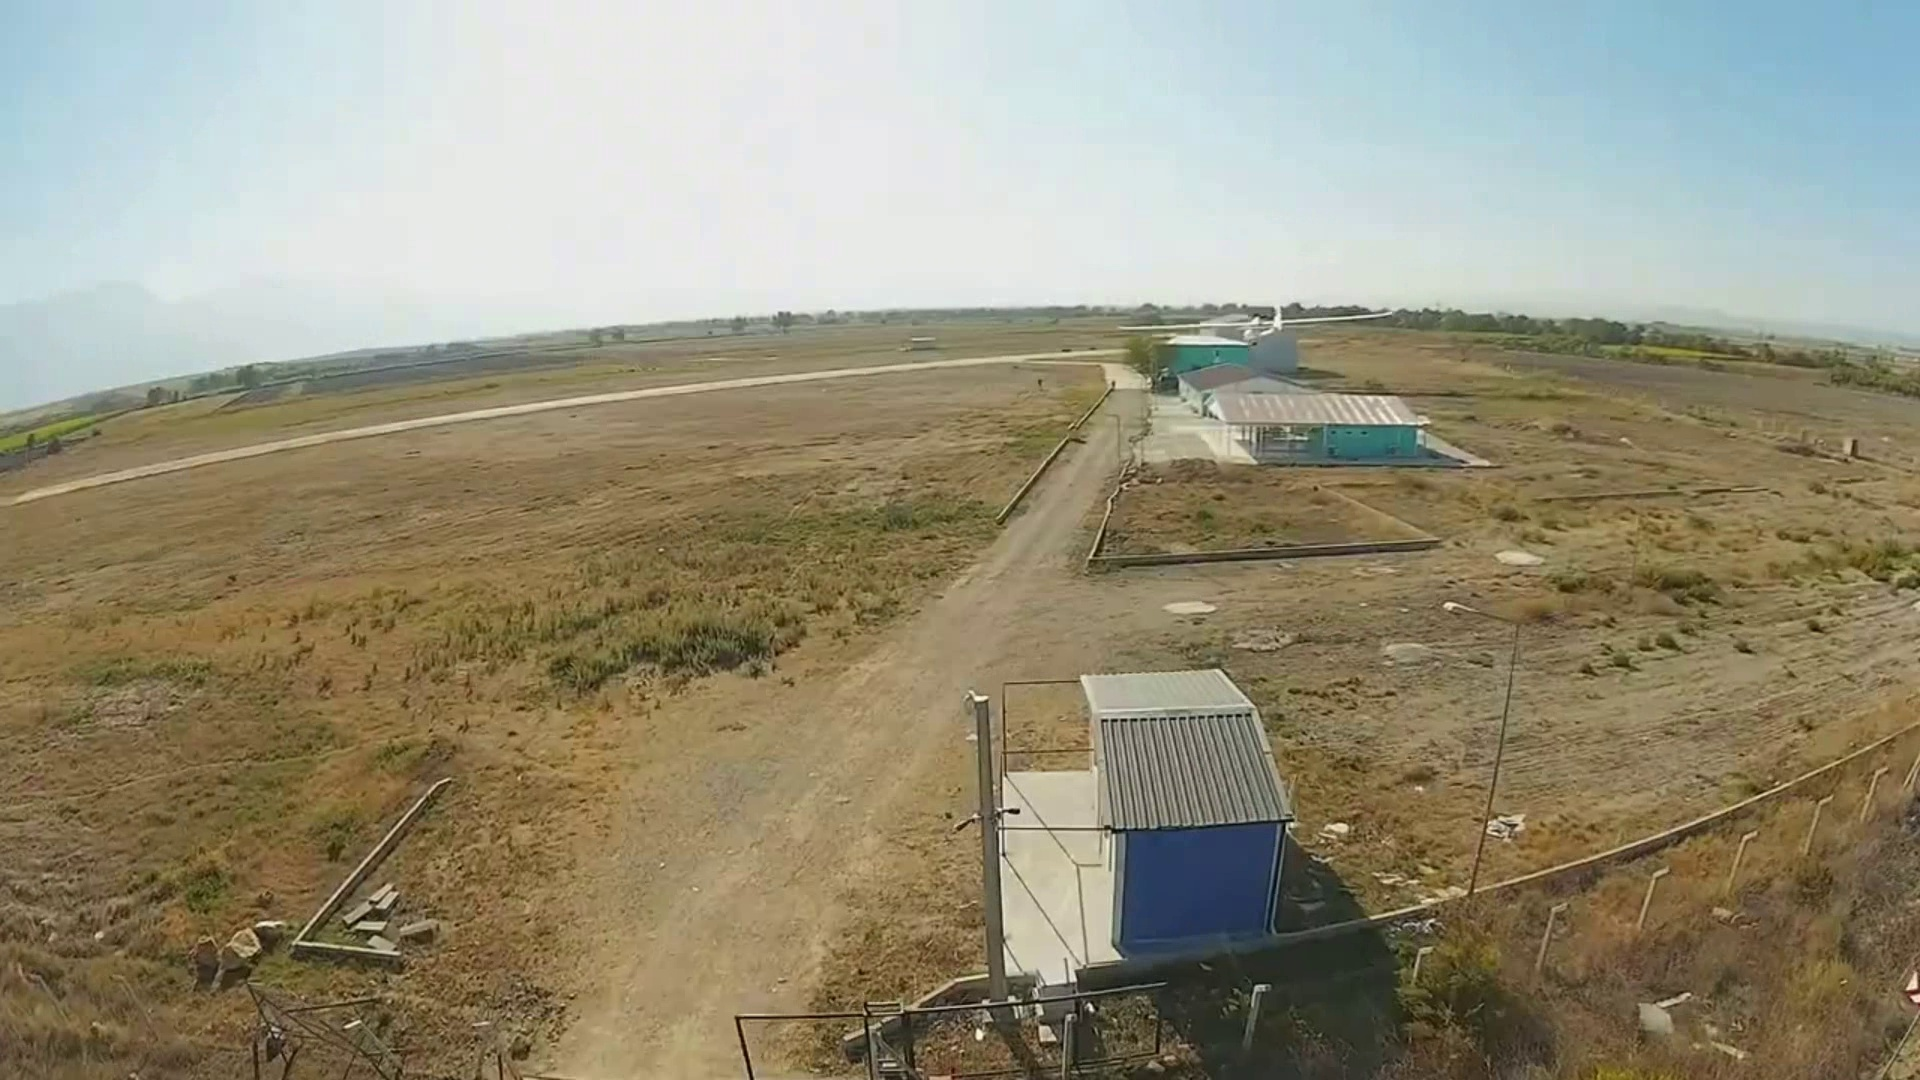airplane: (1156, 316, 1491, 471)
